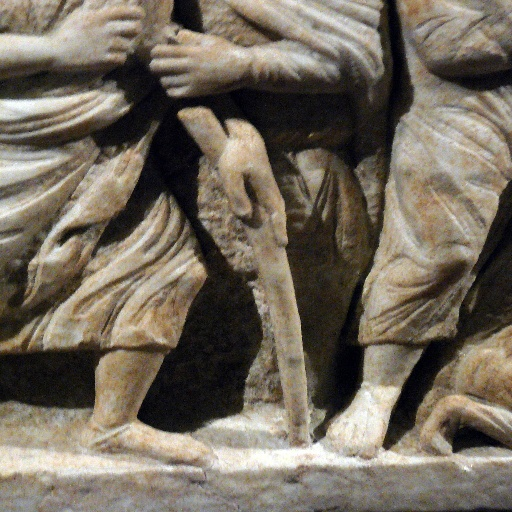hand: (217, 123, 286, 246), (148, 27, 254, 98), (48, 3, 144, 72)
